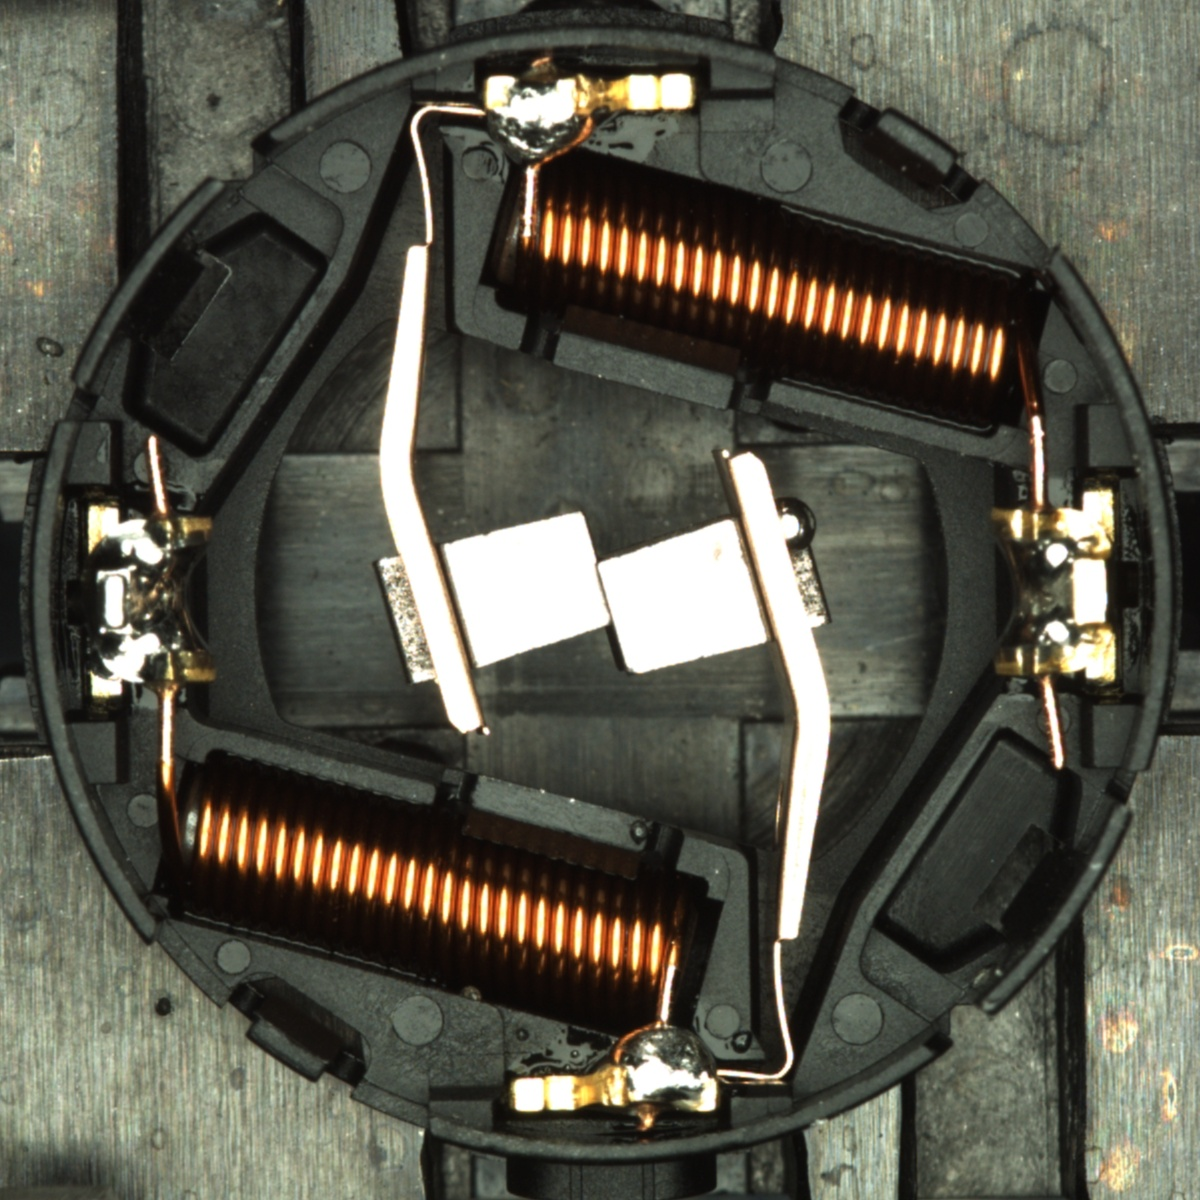1: (258, 55, 487, 279), (716, 953, 945, 1177)
2: (716, 55, 945, 279), (258, 953, 487, 1177)
3: (29, 279, 258, 503), (945, 729, 1175, 953)
4: (258, 279, 487, 503), (716, 729, 945, 953)
5: (487, 167, 716, 391), (487, 841, 716, 1065)
6: (716, 279, 945, 503), (258, 729, 487, 953)
7: (945, 279, 1175, 503), (29, 729, 258, 953)
chau_dien: (82, 498, 222, 699), (984, 489, 1123, 688)
hat_chi: (774, 497, 816, 551)
tay_choi: (479, 70, 700, 170), (510, 1019, 721, 1116)
thanh_de: (58, 163, 245, 405), (954, 788, 1140, 1030)
